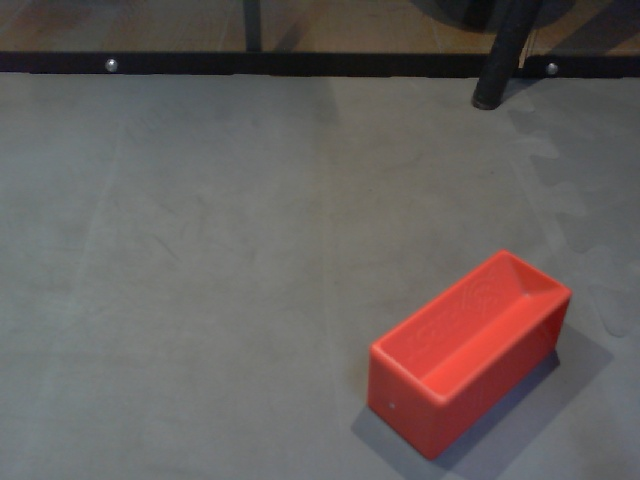RedSample: (364, 248, 576, 462)
